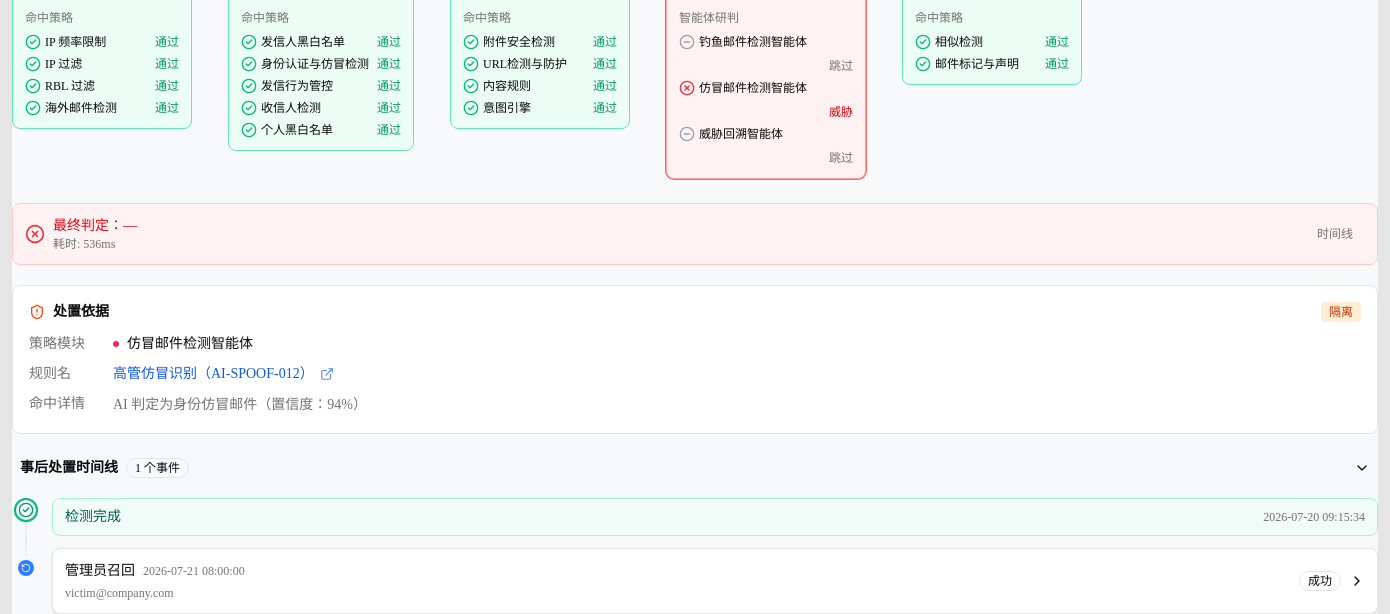
it: AnalysisSection (v2 spec alignment) › 迟到的真实回调盖过超时那一行，即便它的 event_time 更早
The image size is (1390, 614).
(page scrolled)
Click the button with test id "analysis-timeline-event-event-603" at [100, 570], box [52,548,1378,613]
(page scrolled)
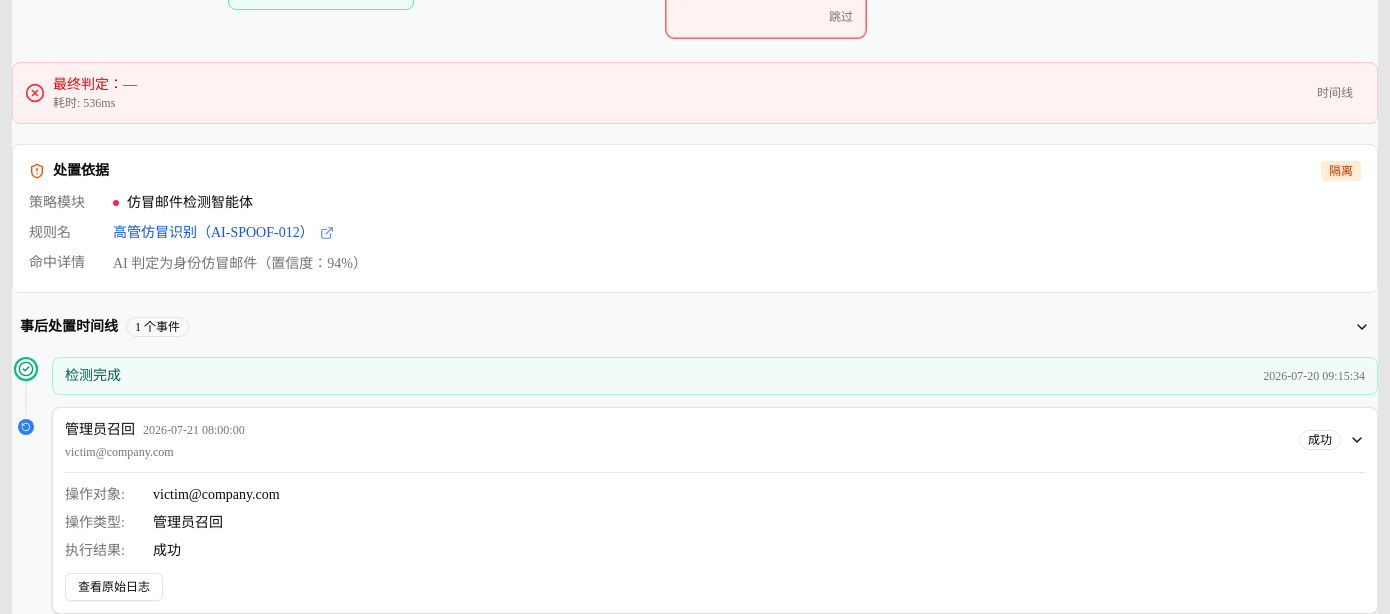
Expected: the element with test id "analysis-timeline-event-event-603-detail" shows "成功", [153,543,181,558]
